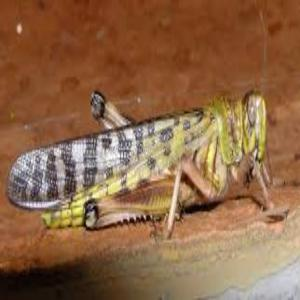locust: (22, 84, 275, 235)
